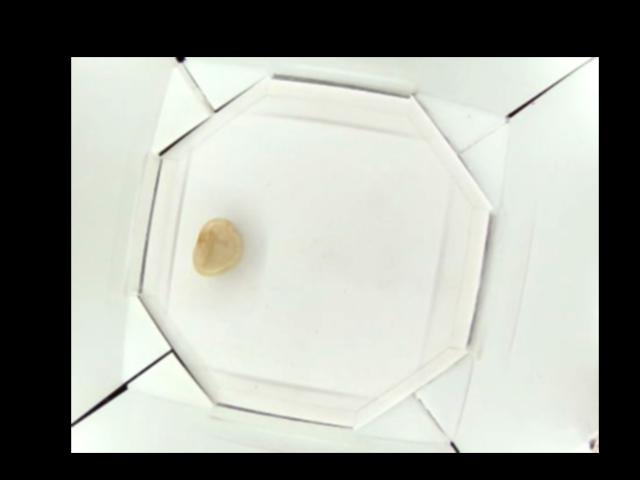Pebble: (191, 216, 244, 276)
